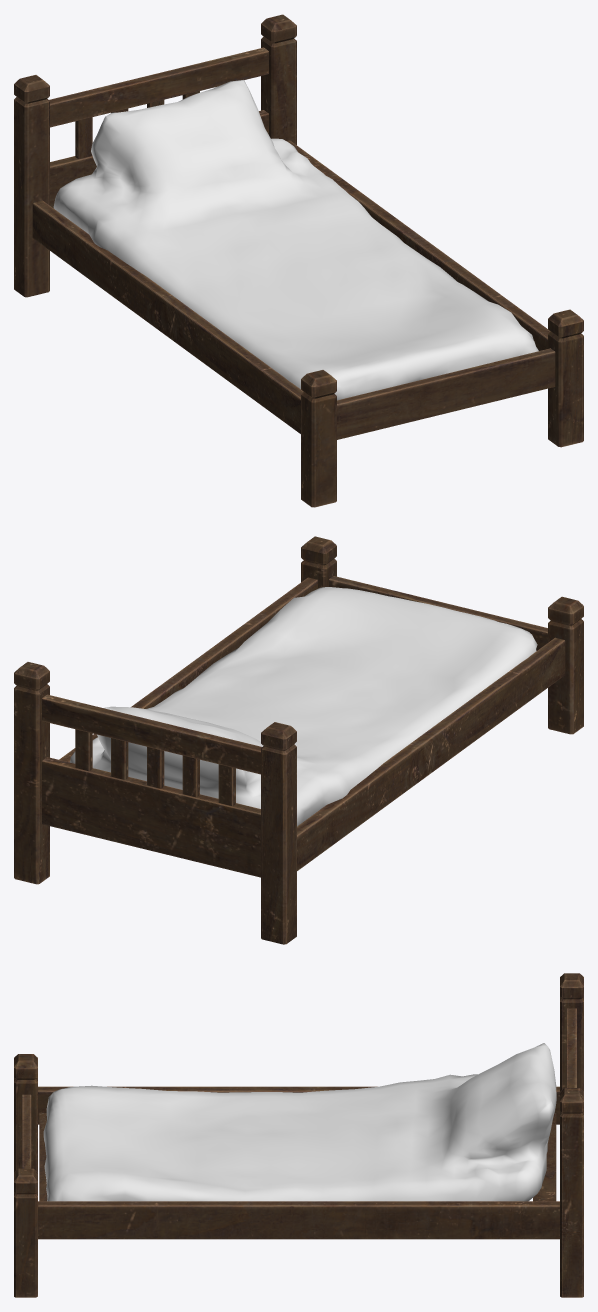
File: cama variante.fbx
3 views of the same model, one above another, from view 1: azimuth 30°, elevation 25°; view 2: azimuth 150°, elevation 25°; view 3: azimuth 270°, elevation 25° (orthographic). The views are drawn at different scales.
Parts seen in each view (by area): view 1: Bed_low, Bed.001; view 2: Bed.001, Bed_low; view 3: Bed_low, Bed.001.
Part boxes in pixels (box(x1,y1,x2,y2)): Bed_low: box(53, 80, 538, 400); Bed.001: box(14, 14, 583, 507); Bed.001: box(14, 536, 583, 944); Bed_low: box(70, 587, 537, 826); Bed_low: box(43, 1043, 556, 1201); Bed.001: box(14, 973, 583, 1297).
Size of the model in its own units: 1.15 by 0.8545 by 2.2.
